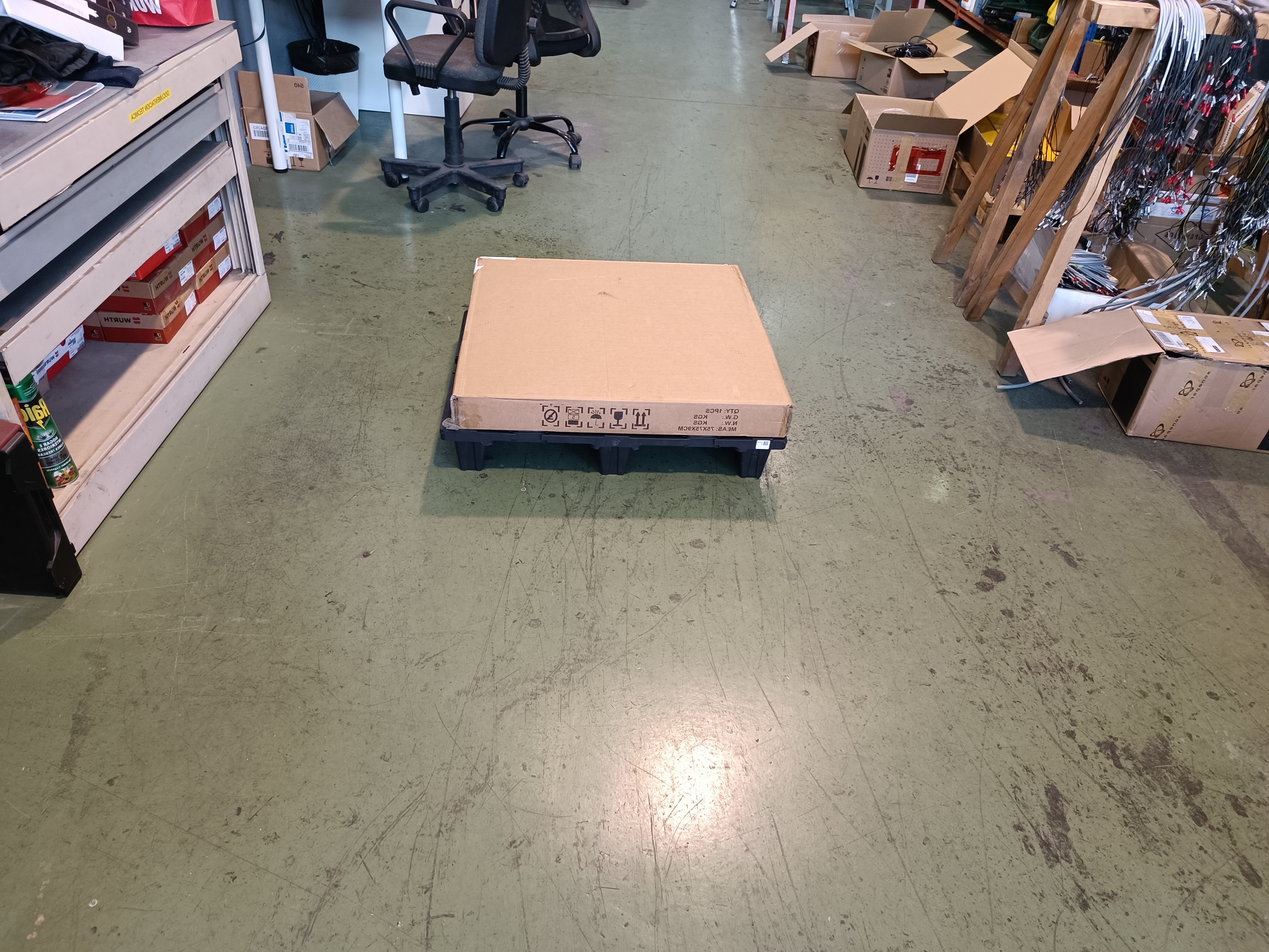block: (590, 440, 634, 482), (733, 439, 769, 480), (454, 441, 491, 473)
front: (441, 430, 778, 491)
hole pallet: (484, 443, 599, 478), (636, 445, 740, 477)
